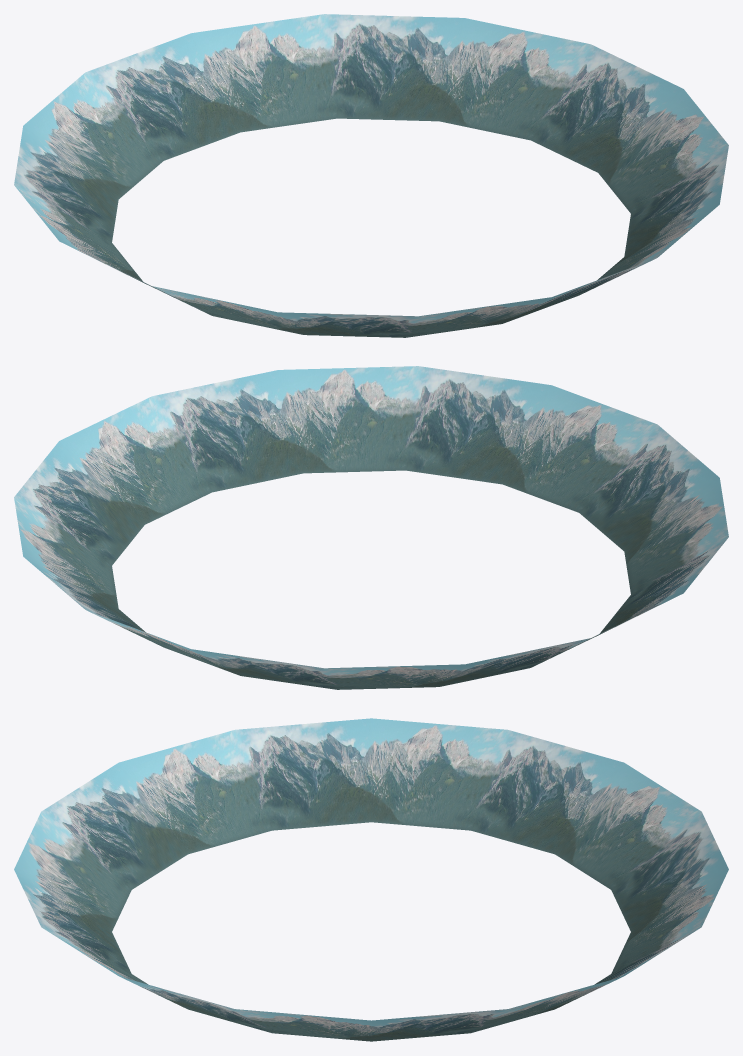
The model's file is hory.FBX.
The picture shows the model from 3 angles, top to bottom: view 1: azimuth 30°, elevation 25°; view 2: azimuth 150°, elevation 25°; view 3: azimuth 270°, elevation 25°; orthographic projection.
Parts seen in each view (by area): view 1: Box076; view 2: Box076; view 3: Box076.
Part boxes in pixels (<box>): Box076: <box>14,14,728,337</box>; Box076: <box>14,366,728,689</box>; Box076: <box>14,718,728,1041</box>.
Size of the model in its own units: 146504 by 14132 by 146504.
